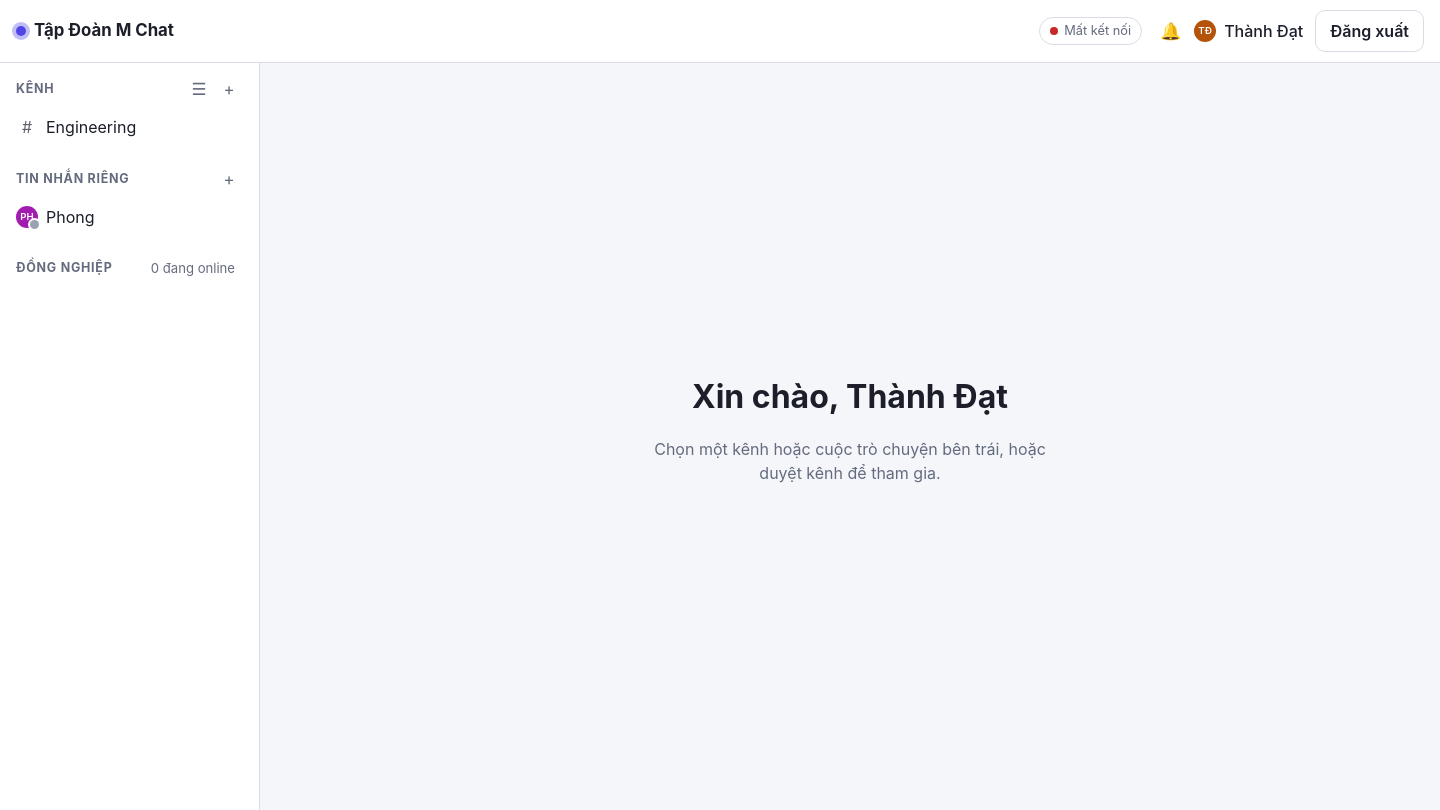
Scenario: danh sách phòng (F03/F04) › duyệt kênh và tham gia thì mở phòng đó
The width and height of the screenshot is (1440, 810).
Click the button named "Duyệt kênh".
click(199, 89)  # box [185,75,213,103]
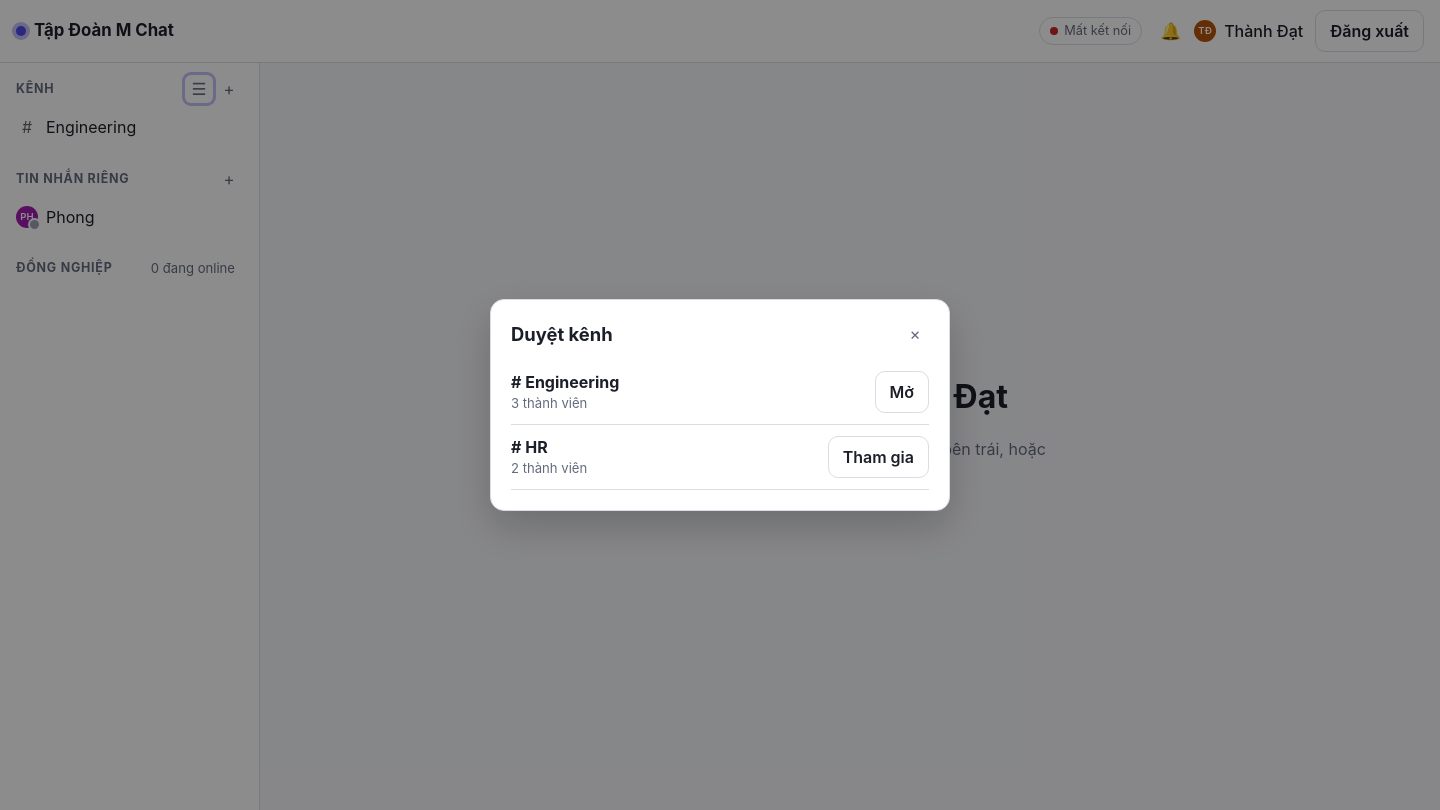
Click the button with aria-label "Tham gia HR".
click(878, 457)  # box [828,436,929,478]
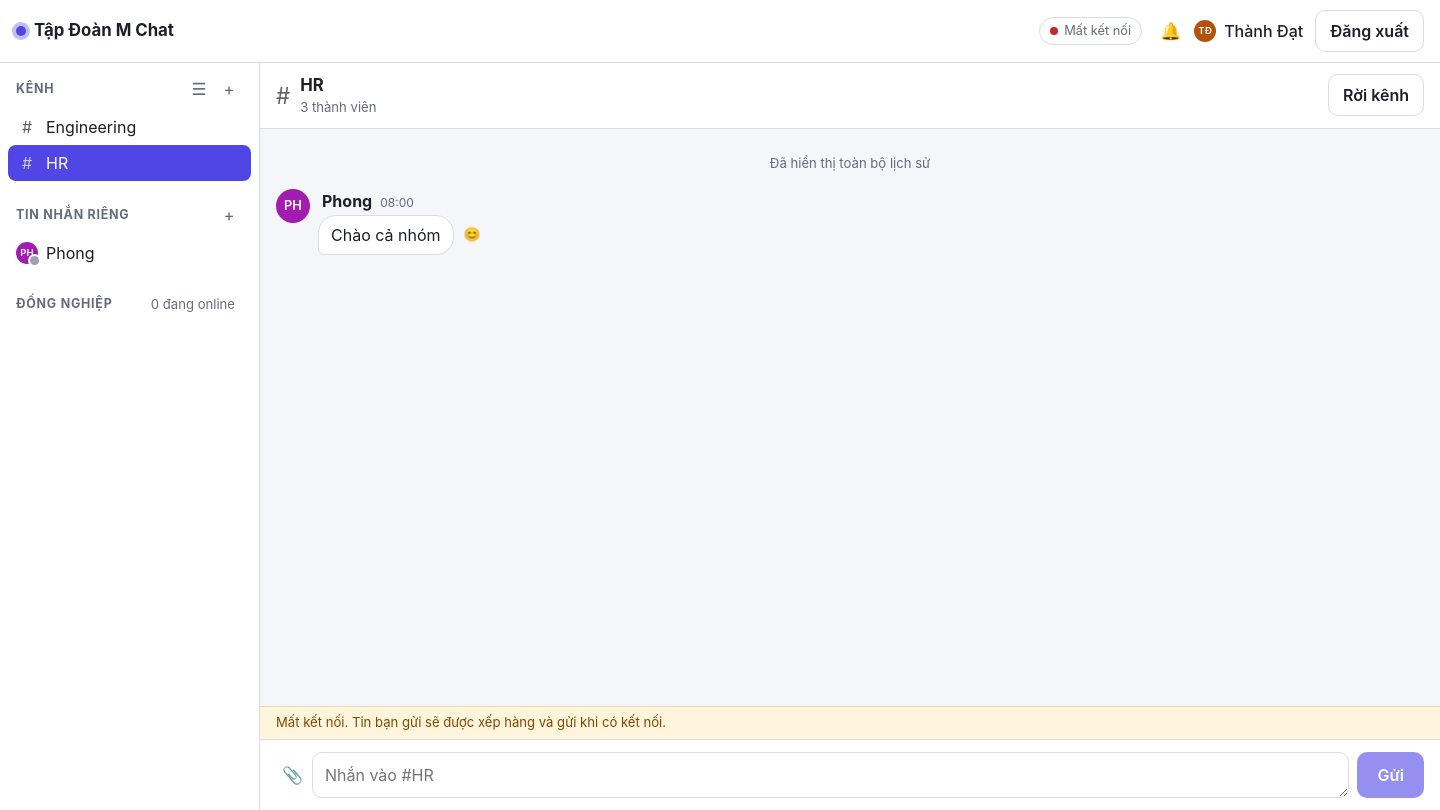
expect the heading "HR" is shown: met, box [300,75,324,95]
expect the dialog is gone: met
